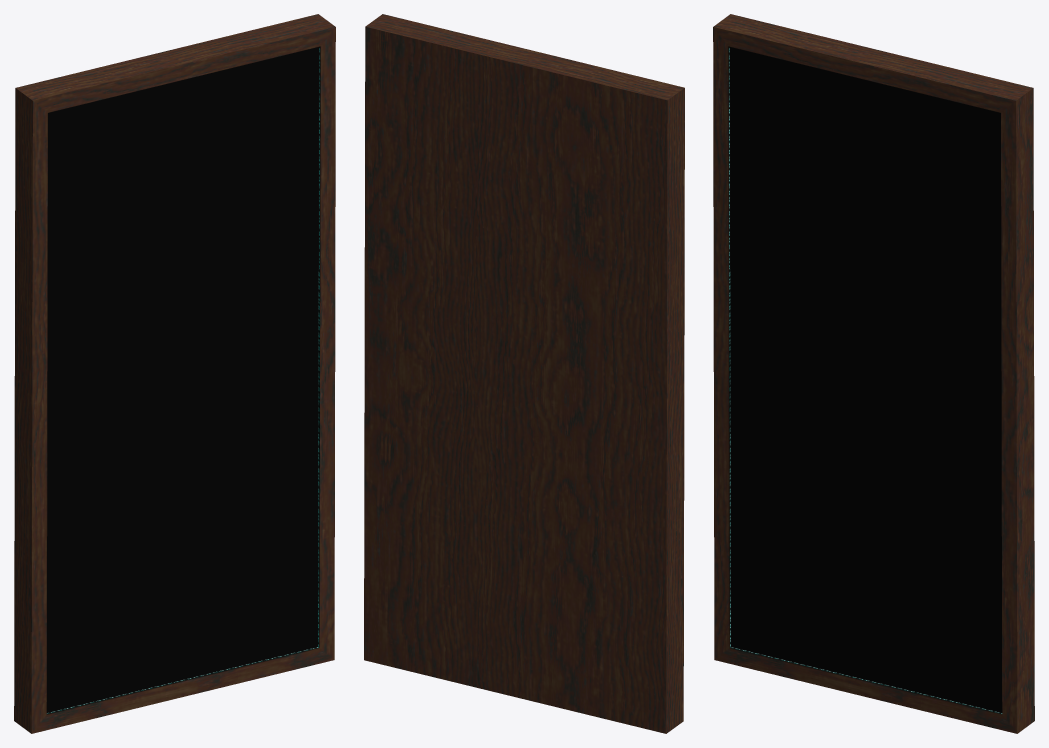
The model's file is mmirorr.fbx.
3 renders of one model, left to right at view 1: azimuth 30°, elevation 25°; view 2: azimuth 150°, elevation 25°; view 3: azimuth 330°, elevation 25°, orthographic.
Parts seen in each view (by area): view 1: Object_4, Object_6; view 2: Object_6; view 3: Object_4, Object_6.
Boxes of the visible parts, x1,y1,x2,y2 form: Object_4: (46,47,319,712); Object_6: (14,14,335,733); Object_6: (364,14,684,733); Object_4: (729,47,1002,712); Object_6: (713,14,1034,733).
Size of the model in its own units: 100 by 200 by 10.73.
